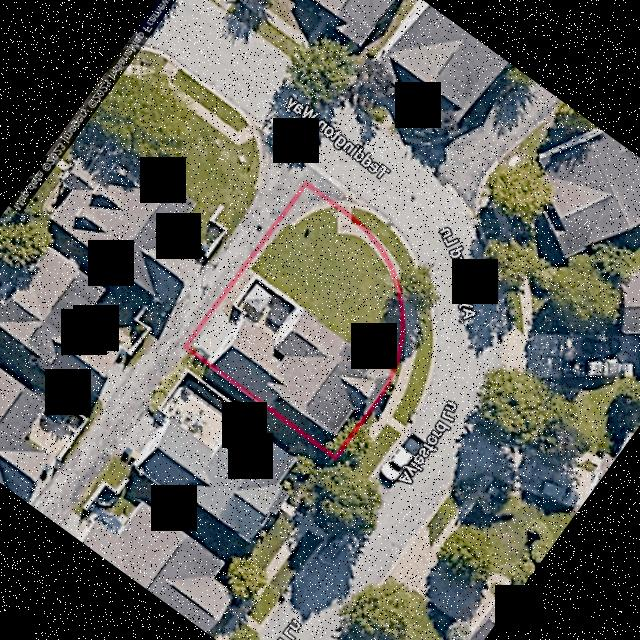Driveway: (188, 308, 235, 358)
Extra Lawn: (350, 195, 437, 428), (354, 424, 399, 477)
Extra Sidewalk: (369, 228, 418, 440), (307, 165, 361, 211)
House: (211, 271, 393, 435)
Sidewalk: (215, 184, 333, 318), (337, 209, 390, 271)
